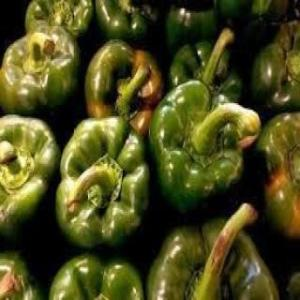bell_pepper: (152, 76, 254, 218), (52, 111, 150, 256), (150, 213, 280, 299), (0, 114, 60, 226), (1, 25, 77, 111), (254, 20, 300, 110)
